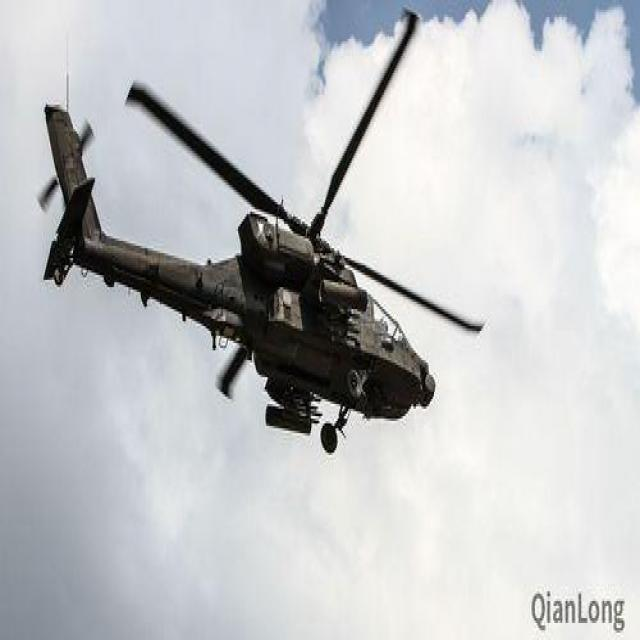MIL_HELO: (37, 16, 507, 470)
